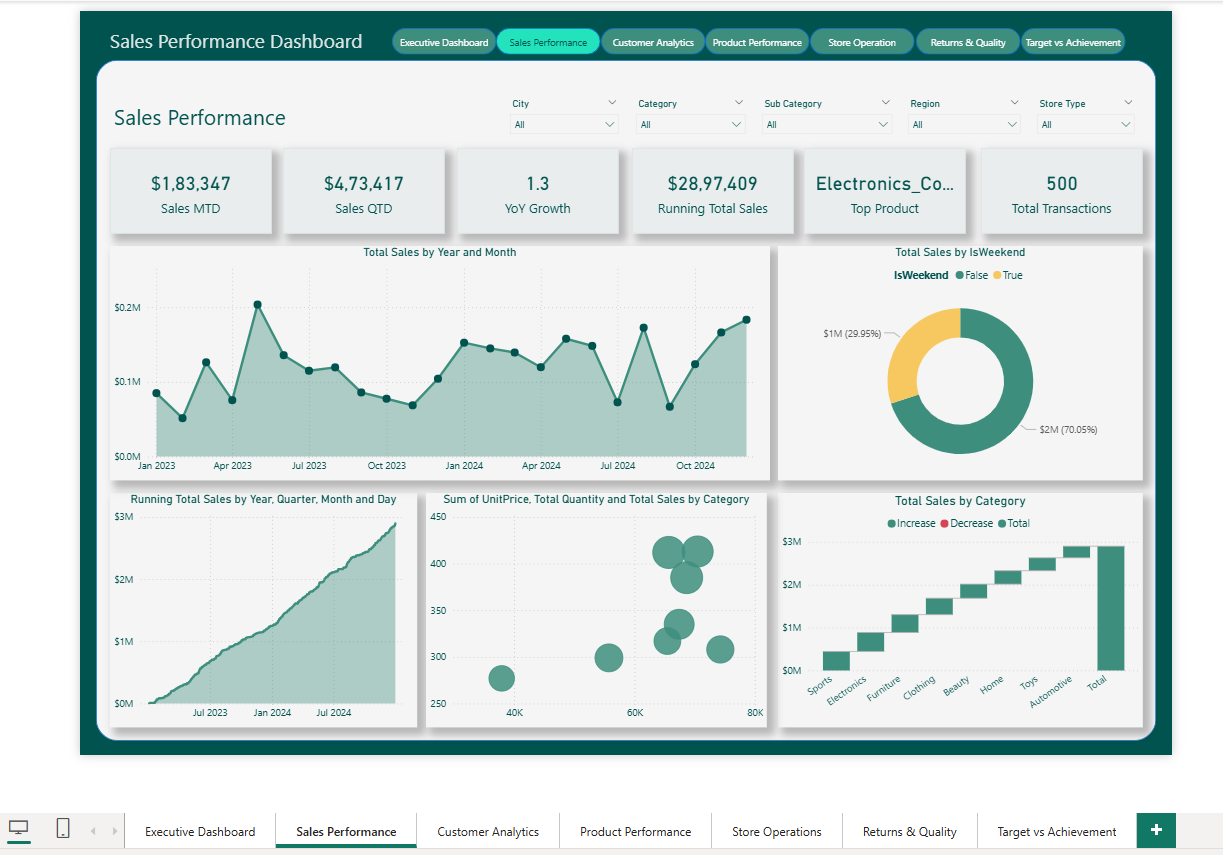

The dashboard page shown, as its layout file describes it:
{"tool":"powerbi","page":{"name":"Sales Performance","canvas":[1365,930],"ordinal":1},"visuals":[{"type":"shape","box":[390.6,21.6,130.6,33.2],"z":0,"group":"g3"},{"type":"shape","box":[19.5,61.8,1325.1,851],"z":0},{"type":"slicer","fields":{"Values":["Customer.City"]},"box":[528,104.2,155.7,57.9],"z":0,"group":"g1"},{"type":"card","title":"Total Sales","fields":{"Values":["All Measures.Sales MTD"]},"box":[37.8,171.8,201.8,106.5],"z":0,"group":"g2"},{"type":"shape","box":[521.2,21.6,130.6,33.2],"z":1000,"group":"g3"},{"type":"group","id":"g1","title":"Group 1","box":[528,104.2,800.6,57.3],"z":1000},{"type":"slicer","fields":{"Values":["Product.Category"]},"box":[685.9,104.2,156.8,57.9],"z":1000,"group":"g1"},{"type":"card","title":"Total Sales","fields":{"Values":["All Measures.Sales QTD"]},"box":[253.9,171.8,201.8,106.5],"z":1000,"group":"g2"},{"type":"shape","box":[651.7,21.6,130.6,33.2],"z":2000,"group":"g3"},{"type":"slicer","fields":{"Values":["Store.Region"]},"box":[1025.3,104.2,161.3,57.9],"z":2000,"group":"g1"},{"type":"textbox","box":[37.5,109.3,257.1,52.5],"z":2000},{"type":"card","title":"Total Sales","fields":{"Values":["All Measures.YoY Growth"]},"box":[471.2,171.8,201.8,106.5],"z":2000,"group":"g2"},{"type":"shape","box":[782.3,21.6,130.6,33.2],"z":3000,"group":"g3"},{"type":"slicer","fields":{"Values":["Store.StoreType"]},"box":[1186.6,104.2,142.2,57.9],"z":3000,"group":"g1"},{"type":"group","id":"g2","title":"Group 2","box":[37.8,171.8,1290.8,106.5],"z":3000},{"type":"card","title":"Total Sales","fields":{"Values":["All Measures.Running Total Sales"]},"box":[689.8,171.8,201.8,106.5],"z":3000,"group":"g2"},{"type":"shape","box":[37.8,19.5,333.3,36.7],"z":4000},{"type":"shape","box":[912.9,21.6,130.6,33.2],"z":4000,"group":"g3"},{"type":"slicer","fields":{"Values":["Product.SubCategory"]},"box":[842.7,104.2,182.6,57.9],"z":4000,"group":"g1"},{"type":"card","title":"Total Sales","fields":{"Values":["All Measures.Top Product"]},"box":[905.9,171.8,201.8,106.5],"z":4000,"group":"g2"},{"type":"shape","box":[1045.7,21.6,130.6,33.2],"z":5000,"group":"g3"},{"type":"card","title":"Total Sales","fields":{"Values":["All Measures.Total Transactions"]},"box":[1126.8,171.8,201.8,106.5],"z":5000,"group":"g2"},{"type":"lineChart","fields":{"Y":["All Measures.Running Total Sales"],"Category":["Date.Date.Variation.Date Hierarchy.Year","Date.Date.Variation.Date Hierarchy.Quarter","Date.Date.Variation.Date Hierarchy.Month","Date.Date.Variation.Date Hierarchy.Day"]},"box":[37.8,602.4,383.7,293.2],"z":5000},{"type":"shape","box":[1176.3,21.6,130.6,33.2],"z":6000,"group":"g3"},{"type":"areaChart","fields":{"Category":["Date.Date.Variation.Date Hierarchy.Year","Date.Date.Variation.Date Hierarchy.Month"],"Y":["All Measures.Total Sales"]},"box":[37.8,294.3,824.6,293.2],"z":6000},{"type":"donutChart","fields":{"Category":["Date.IsWeekend"],"Y":["All Measures.Total Sales"]},"box":[872.7,294.3,455.8,293.2],"z":7000},{"type":"waterfallChart","fields":{"Category":["Product.Category"],"Y":["All Measures.Total Sales"]},"box":[872.7,602.4,455.8,293.2],"z":8000},{"type":"scatterChart","fields":{"X":["Sum(Product.UnitPrice)"],"Y":["All Measures.Total Quantity"],"Category":["Product.Category"],"Size":["All Measures.Total Sales"]},"box":[432.9,602.4,426.1,293.2],"z":9000},{"type":"group","id":"g3","title":"Group 3","box":[390.6,21.6,916.3,33.2],"z":9008}]}

Visuals, with their boxes on the page's 1365x930 design canvas (x1, y1, x2, y2). These are canvas units, not pixel positions in the 1223x855 screenshot, which may show the page scaled, cropped or inside an application window:
shape: 391,22,521,55
shape: 20,62,1345,913
slicer - Customer.City: 528,104,684,162
"Total Sales" card: 38,172,240,278
shape: 521,22,652,55
"Group 1" group: 528,104,1329,162
slicer - Product.Category: 686,104,843,162
"Total Sales" card: 254,172,456,278
shape: 652,22,782,55
slicer - Store.Region: 1025,104,1187,162
textbox: 38,109,295,162
"Total Sales" card: 471,172,673,278
shape: 782,22,913,55
slicer - Store.StoreType: 1187,104,1329,162
"Group 2" group: 38,172,1329,278
"Total Sales" card: 690,172,892,278
shape: 38,20,371,56
shape: 913,22,1044,55
slicer - Product.SubCategory: 843,104,1025,162
"Total Sales" card: 906,172,1108,278
shape: 1046,22,1176,55
"Total Sales" card: 1127,172,1329,278
lineChart - All Measures.Running Total Sales x Date.Date.Variation.Date Hierarchy.Year: 38,602,422,896
shape: 1176,22,1307,55
areaChart - Date.Date.Variation.Date Hierarchy.Year x Date.Date.Variation.Date Hierarchy.Month: 38,294,862,588
donutChart - Date.IsWeekend x All Measures.Total Sales: 873,294,1328,588
waterfallChart - Product.Category x All Measures.Total Sales: 873,602,1328,896
scatterChart - Sum(Product.UnitPrice) x All Measures.Total Quantity: 433,602,859,896
"Group 3" group: 391,22,1307,55
